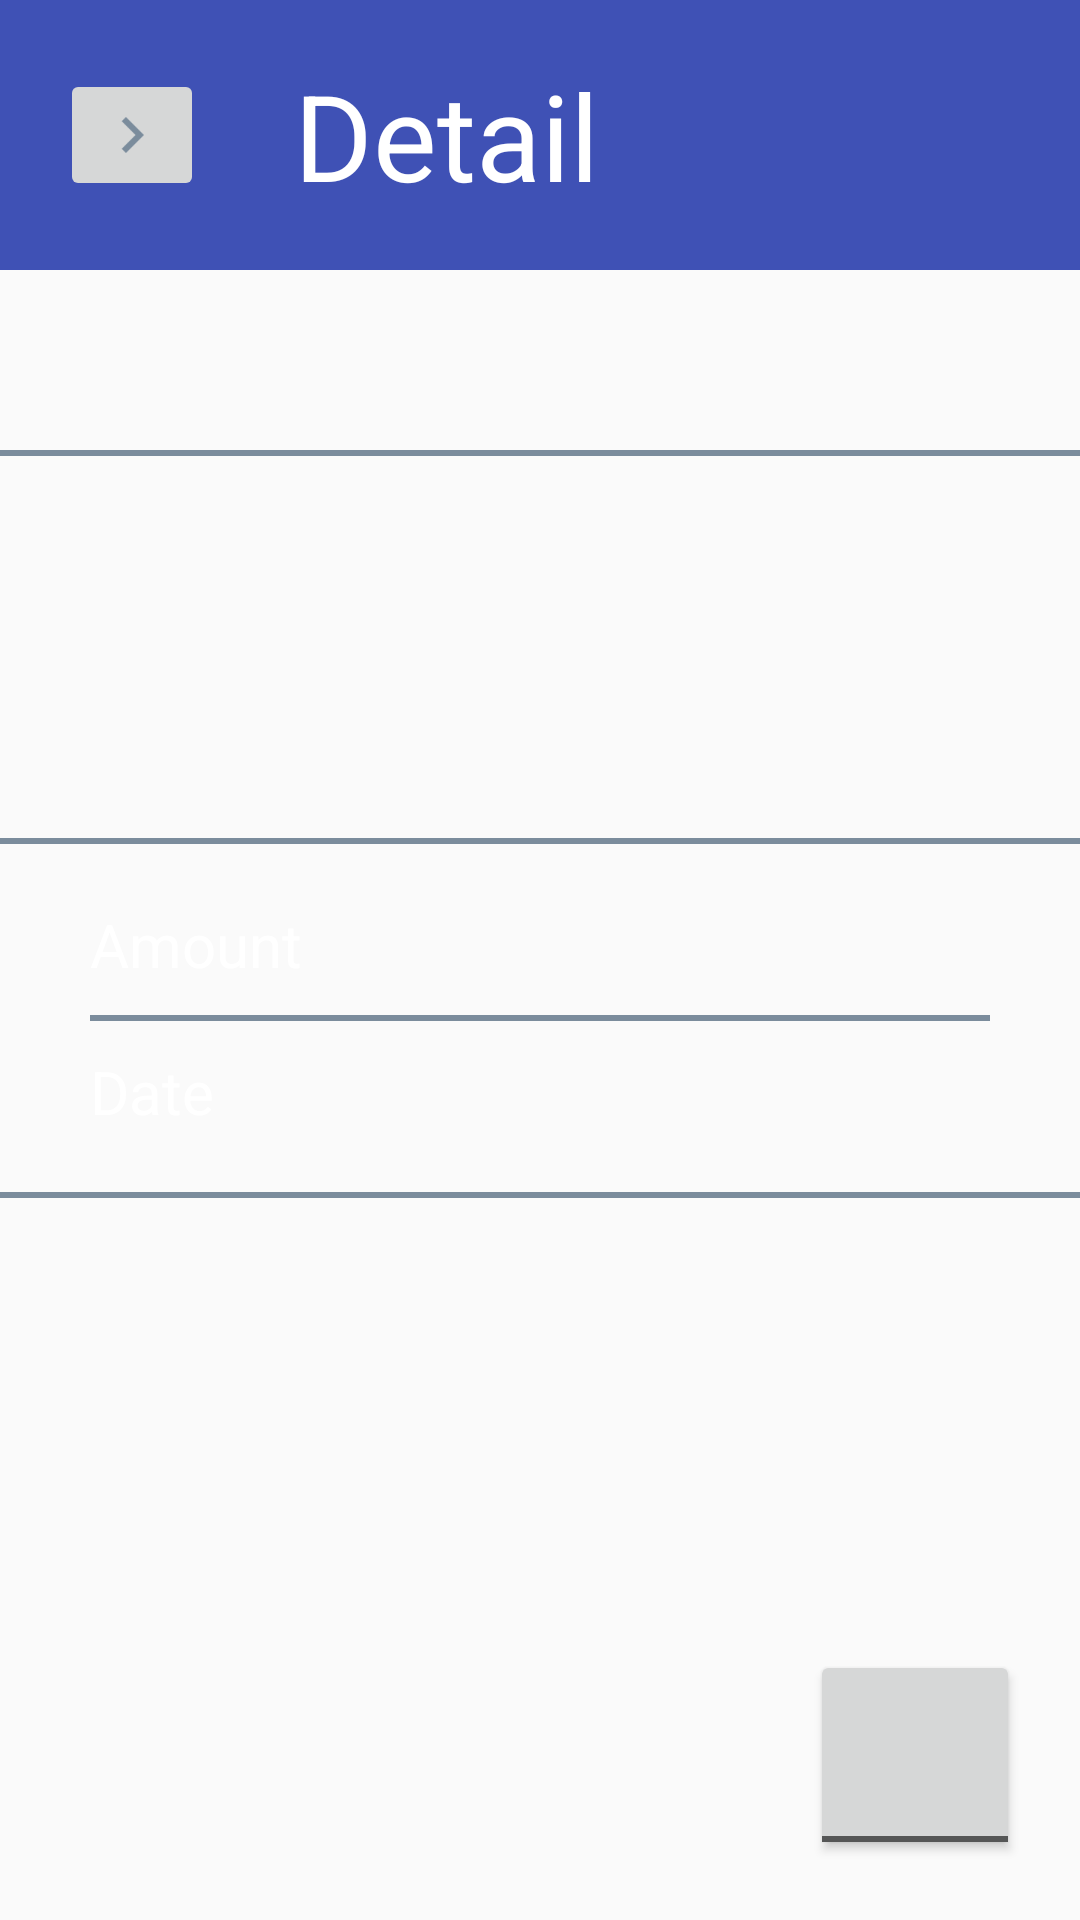

Point at icon controls on the screen. Image size 1080×1920, points as (x,y).
arrow: (132,135)
